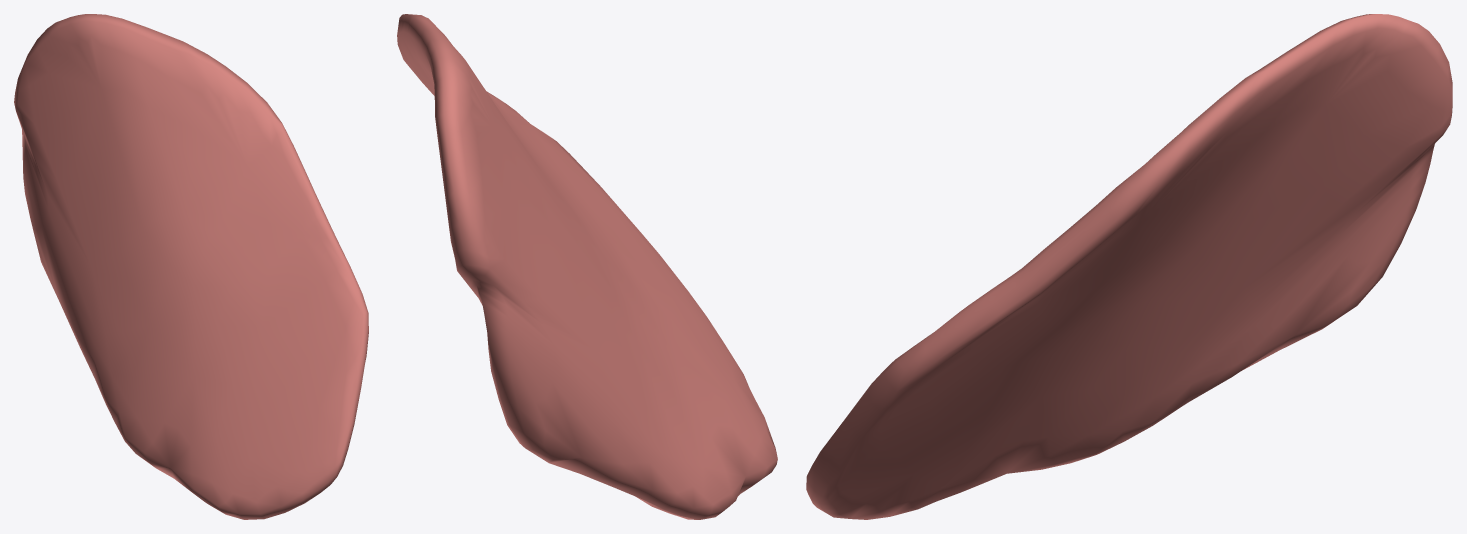
3 views of the same model, side by side, from view 1: azimuth 30°, elevation 25°; view 2: azimuth 150°, elevation 25°; view 3: azimuth 270°, elevation 25° (orthographic). The views are drawn at different scales.
Parts seen in each view (by area): view 1: ZA_872bf3a42b4c109b; view 2: ZA_872bf3a42b4c109b; view 3: ZA_872bf3a42b4c109b.
Part boxes in pixels (x1,y1,x2,y2): ZA_872bf3a42b4c109b: (14,14,368,519); ZA_872bf3a42b4c109b: (397,14,777,519); ZA_872bf3a42b4c109b: (806,14,1452,519).
Bounding box in the file's own units: 0.00451 × 0.00885 × 0.01.
